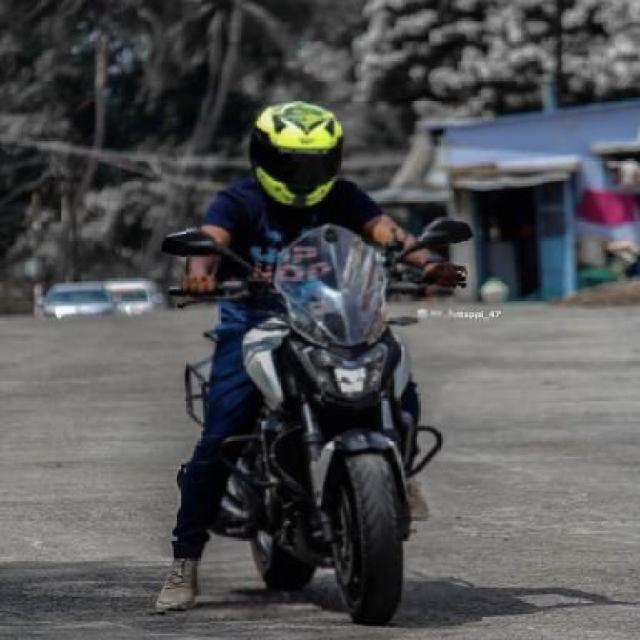helmet: (234, 101, 361, 227)
motorcycle: (132, 95, 471, 640)
